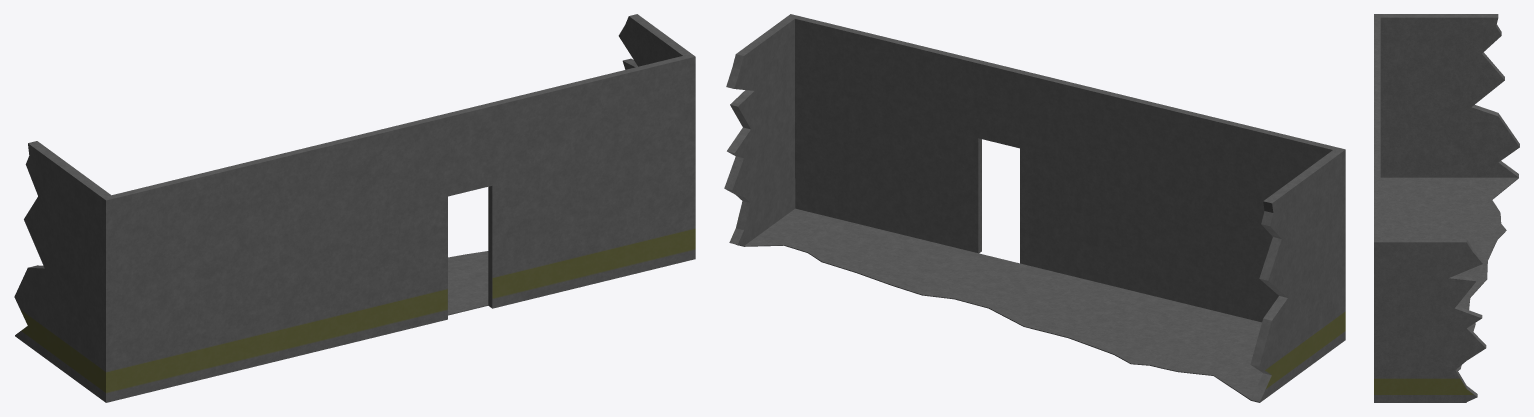
Rendered from BC wall.obj.
3 renders of one model, left to right at view 1: azimuth 30°, elevation 25°; view 2: azimuth 150°, elevation 25°; view 3: azimuth 270°, elevation 25°, orthographic. The views are drawn at different scales.
Visible parts, largest first — view 1: BC_wall; view 2: BC_wall; view 3: BC_wall.
Part boxes in pixels (x1,y1,x2,y2): BC_wall: (14,14,695,402); BC_wall: (724,14,1345,402); BC_wall: (1374,14,1519,402).
Bounding box in the file's own units: 24.49 × 8.04 × 6.61.
